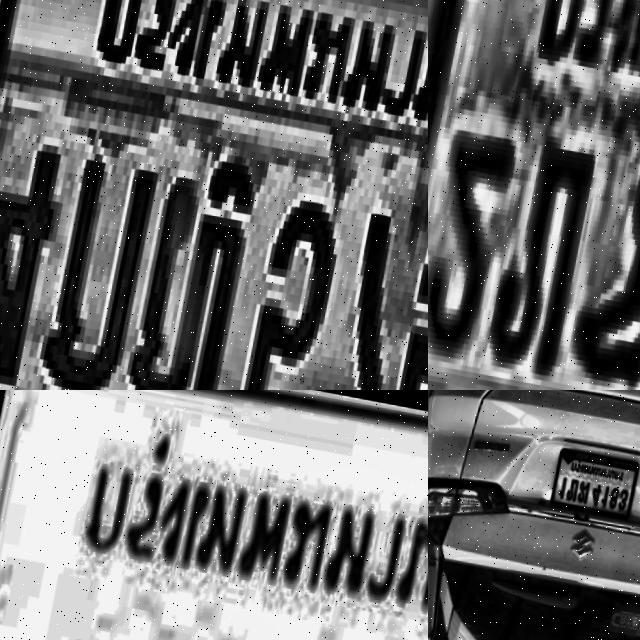license-plate: (0, 0, 428, 390), (0, 390, 428, 640), (428, 0, 640, 390), (552, 438, 640, 515)
